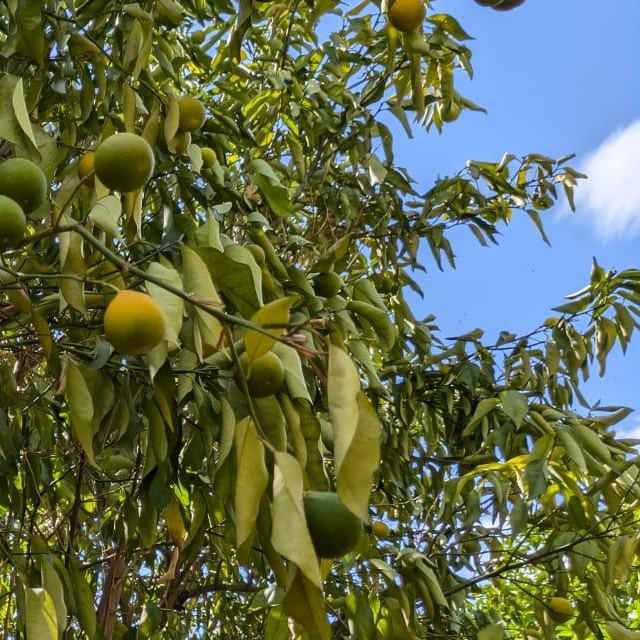orange: (298, 486, 362, 562), (96, 290, 166, 354), (90, 131, 156, 197), (0, 155, 44, 211), (235, 349, 283, 399), (170, 97, 208, 133), (386, 0, 426, 32), (0, 194, 22, 252), (73, 154, 105, 186), (312, 272, 342, 302), (546, 596, 576, 622), (192, 148, 220, 170), (486, 0, 530, 12), (461, 533, 483, 553), (371, 522, 391, 540), (469, 0, 509, 9), (190, 30, 206, 44), (244, 0, 288, 3)
